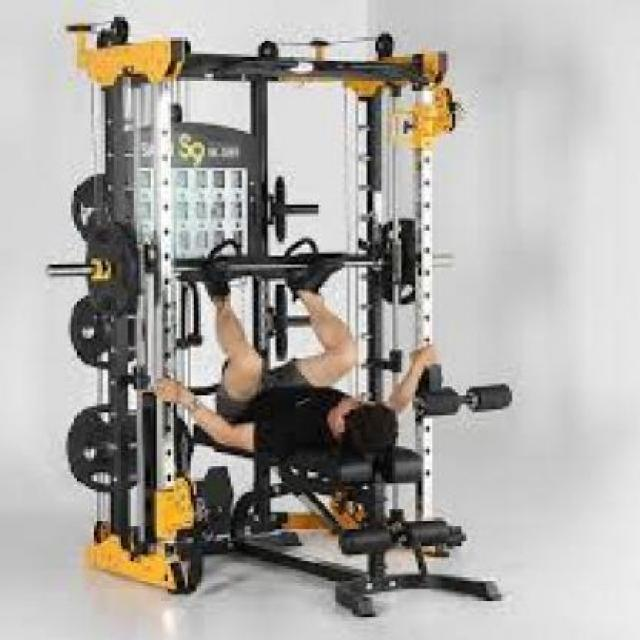smith machine: (46, 14, 511, 617)
